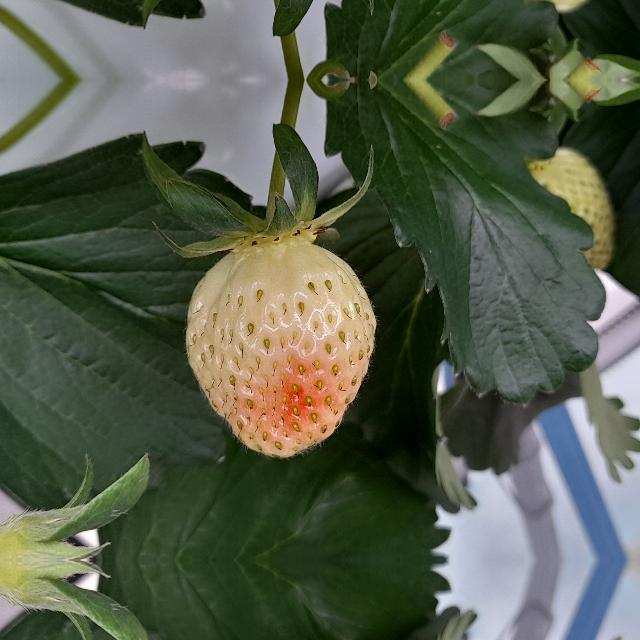Health_50: (186, 243, 377, 457)
